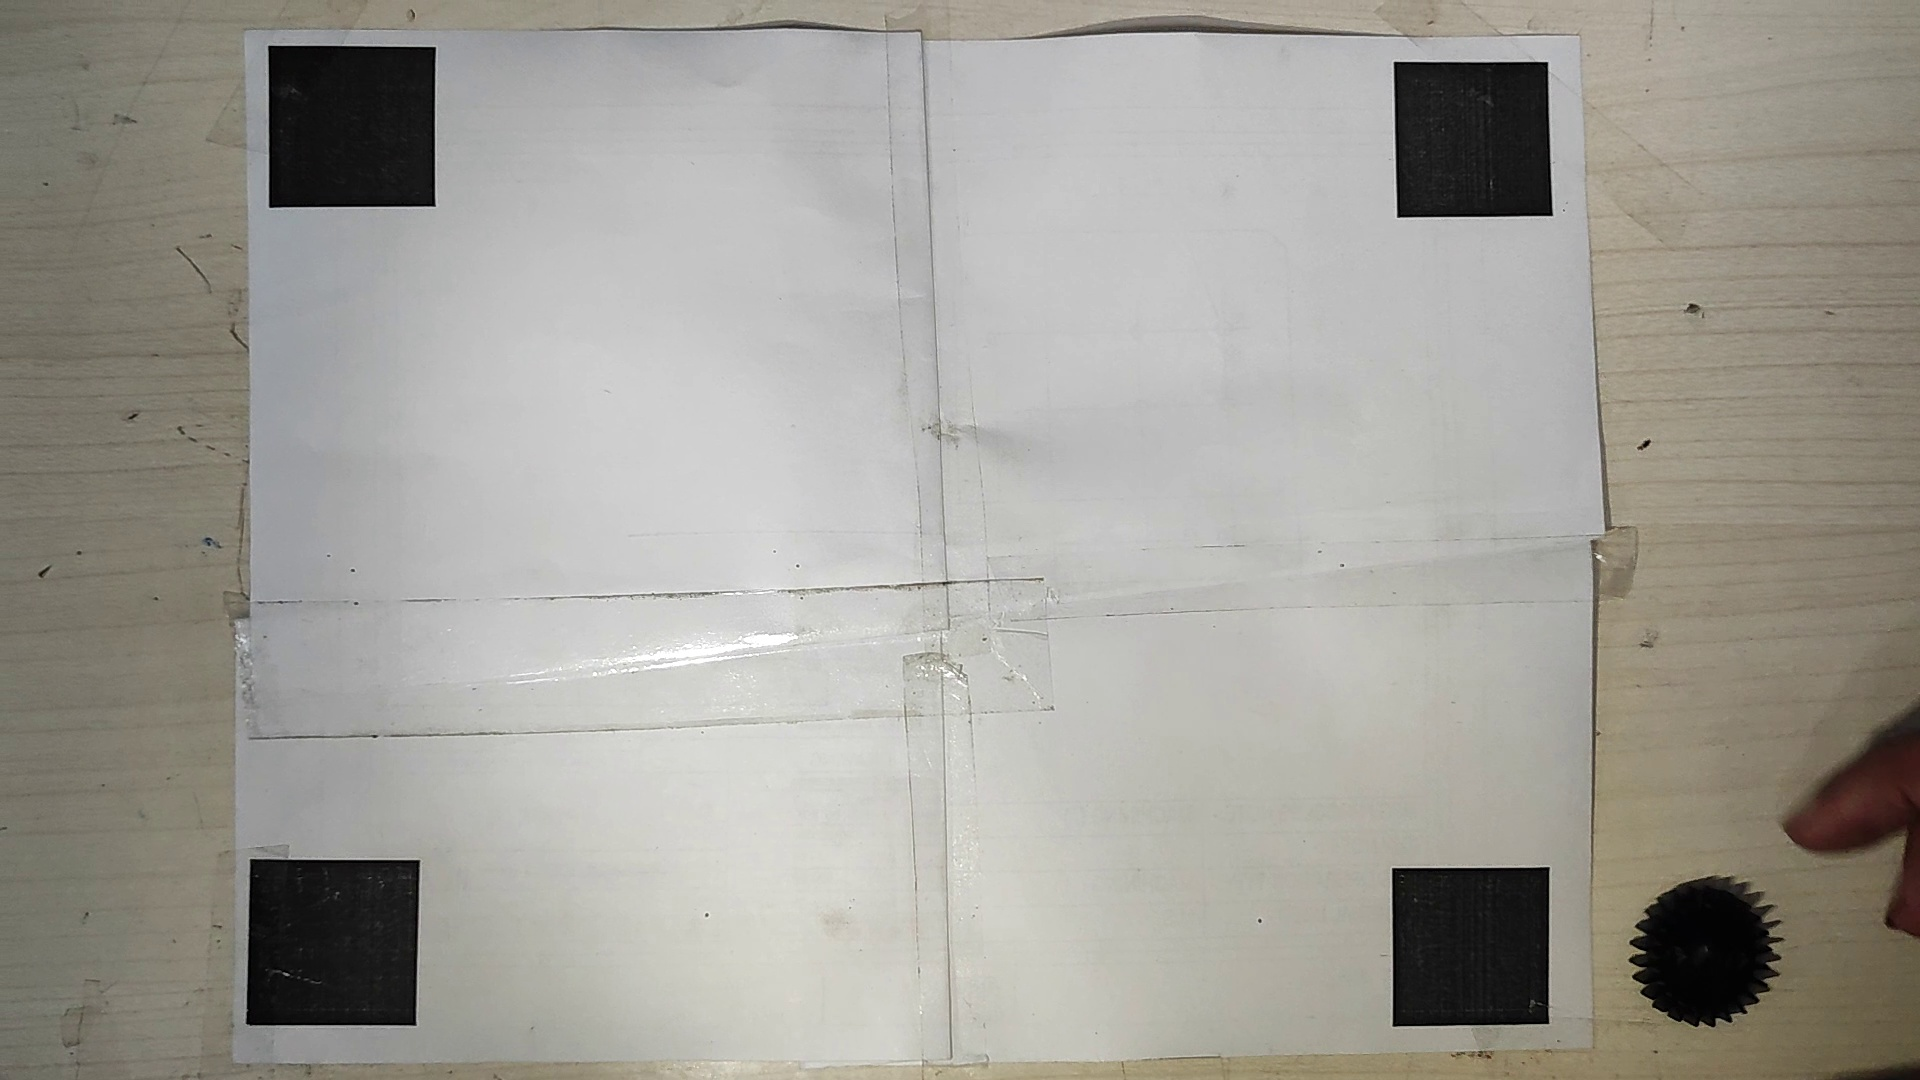Gear: (1633, 869, 1785, 1030)
